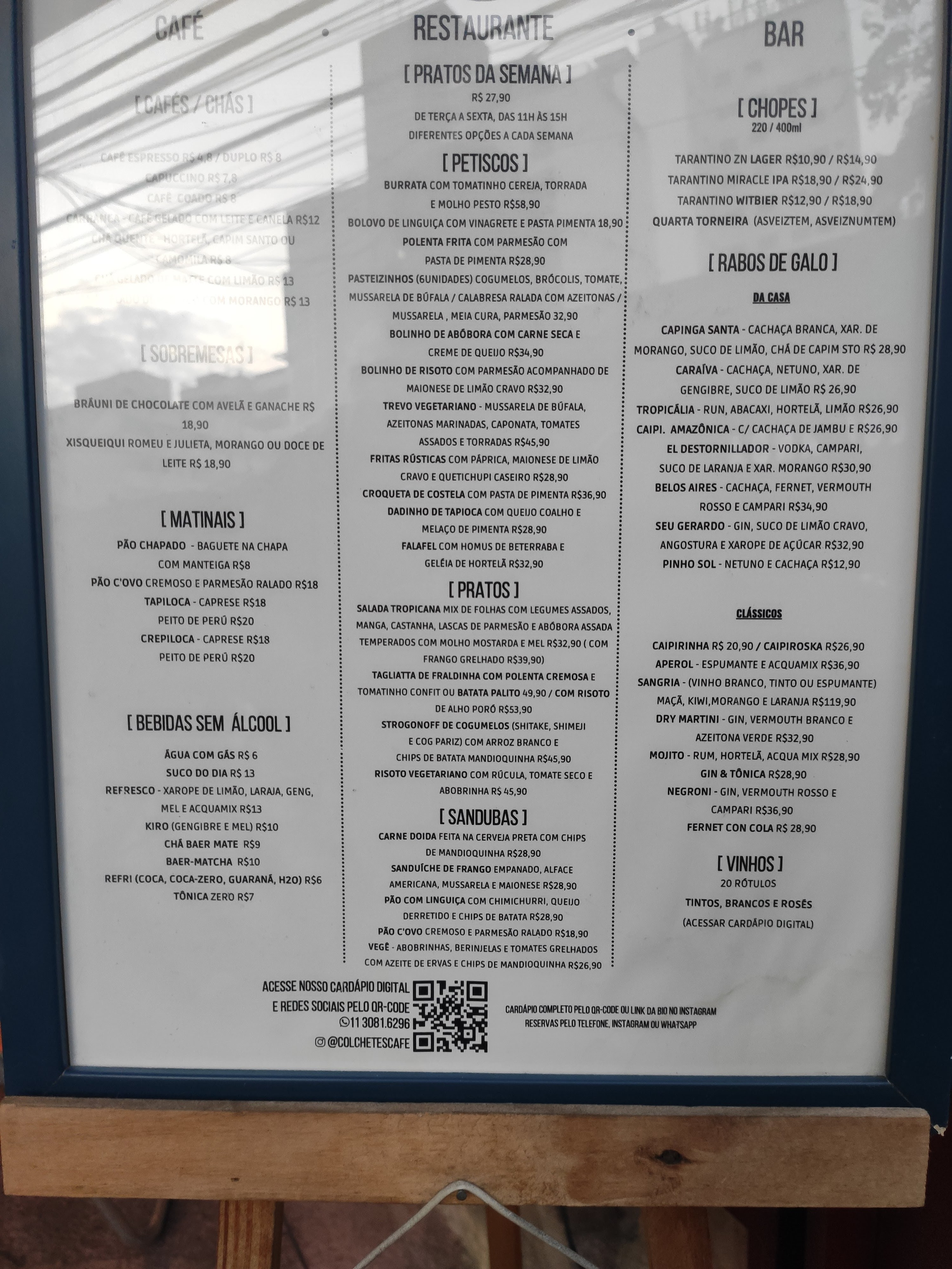QR-CODE: (413, 980, 488, 1053)
